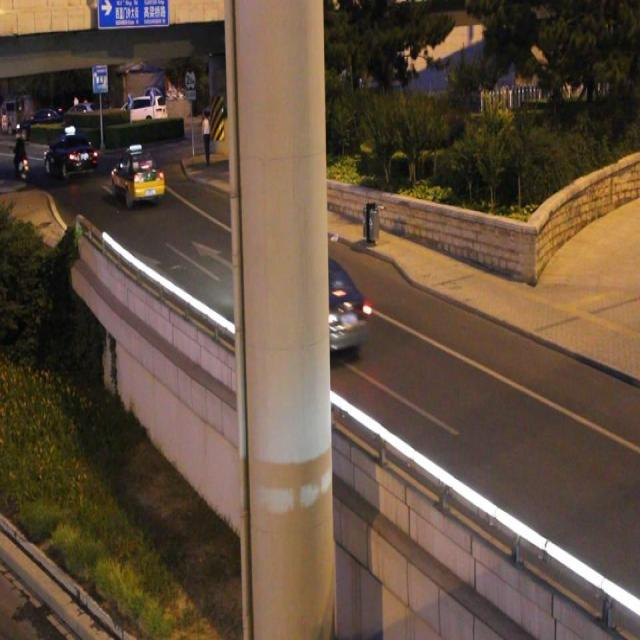car: (256, 259, 366, 356), (111, 152, 164, 202), (46, 137, 96, 177)
